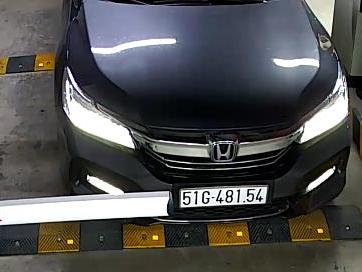number: (179, 183, 267, 208)
